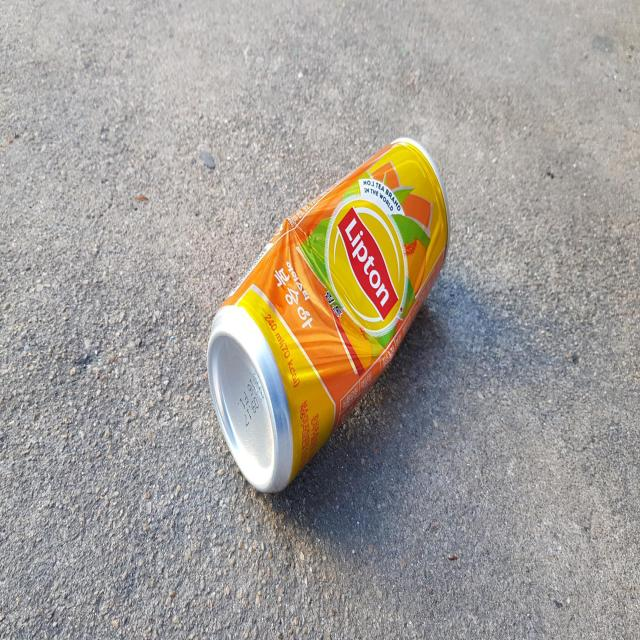can: (207, 137, 450, 492)
